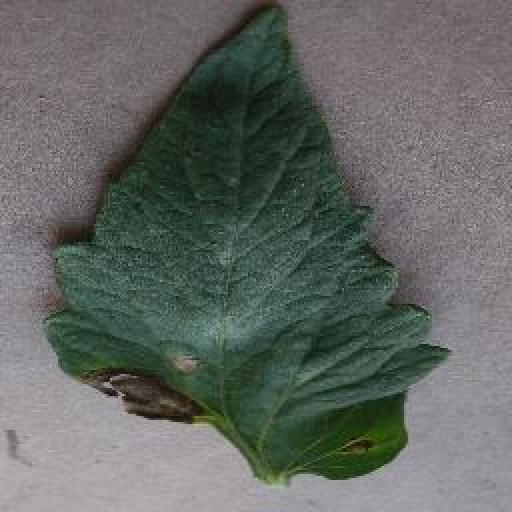Early Blight: (46, 4, 452, 485)
